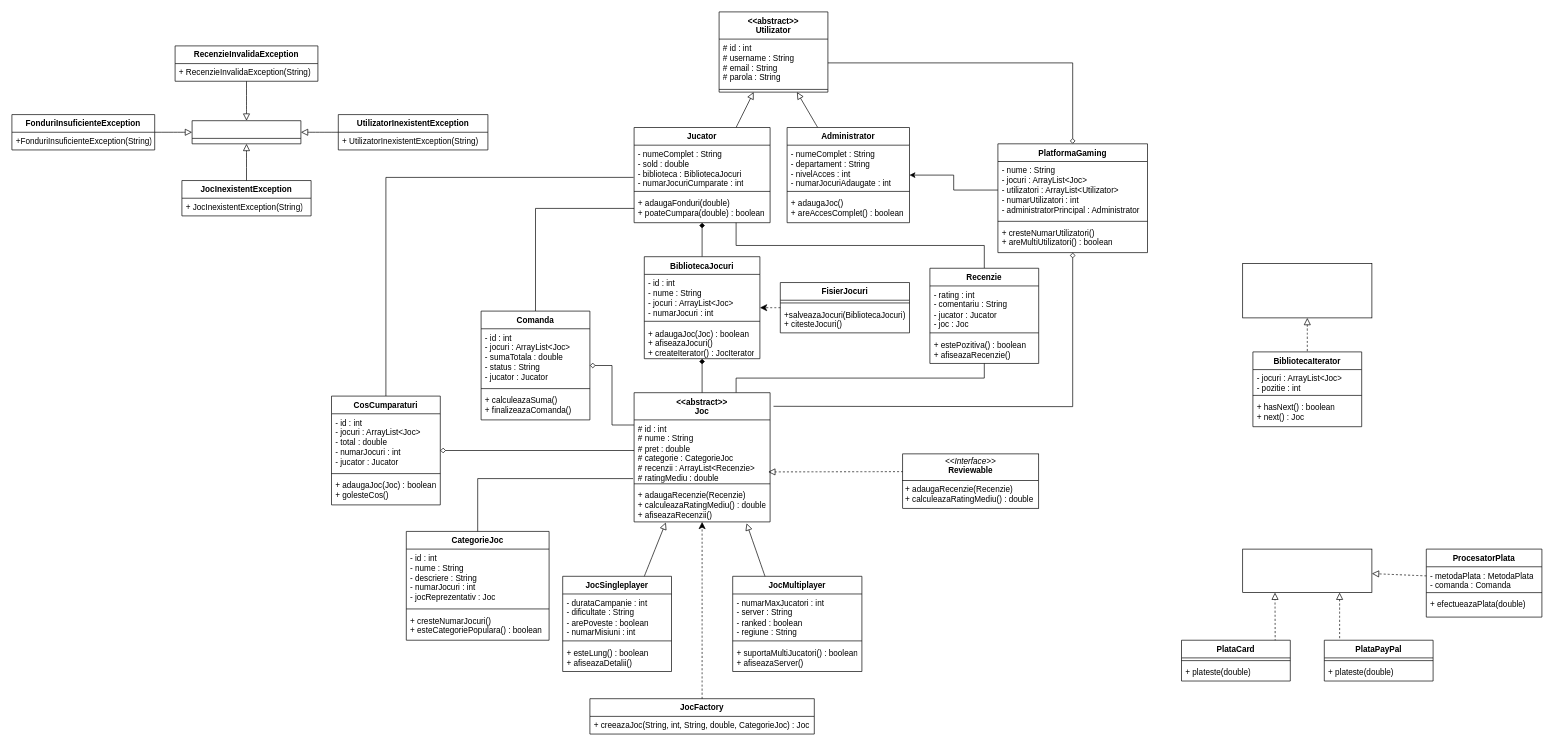
The diagram is 1554 pixels wide and 748 high, and some of its shapes have lost their labels. The shapes that lost their labels are listed below. From the top down, each one's centre as x and y in pixels, then its label:
At point 246,132: "Exception".
At point 1307,290: "<<Interface>> JocIterator + hasNext() : boolean + next() : Joc".
At point 1307,570: "<<Interface>> MetodaPlata + plateste(double)".
